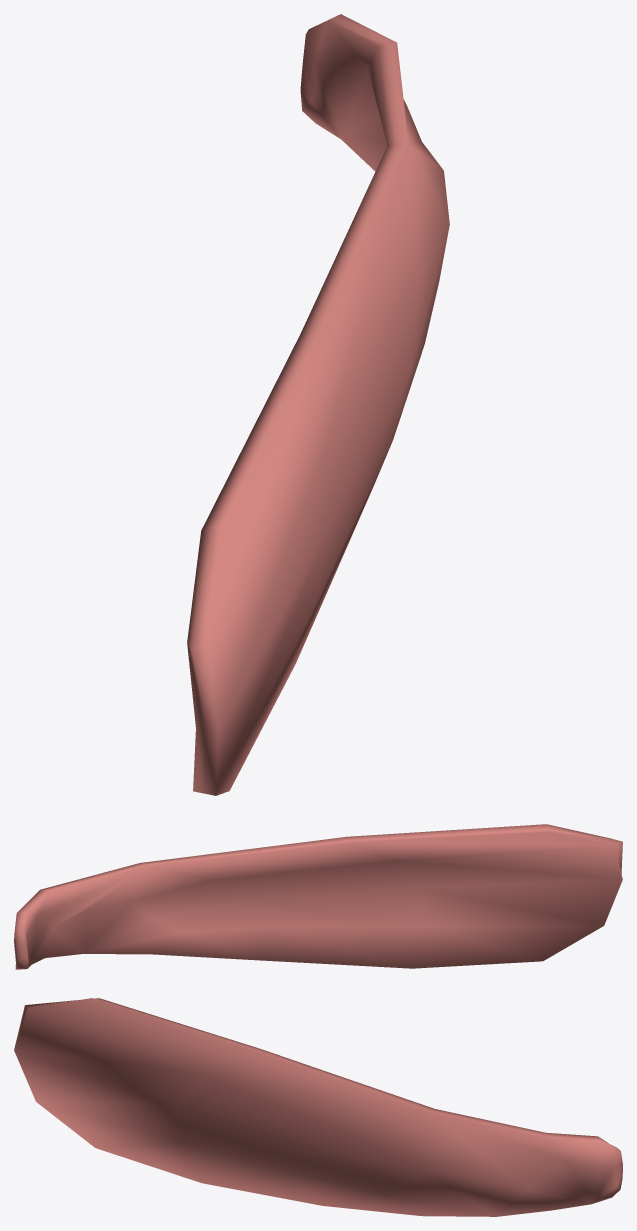
3 renders of one model, top to bottom at view 1: azimuth 30°, elevation 25°; view 2: azimuth 150°, elevation 25°; view 3: azimuth 270°, elevation 25°, orthographic. The views are drawn at different scales.
Visible parts, largest first — view 1: ZA_8d8730af1e36609e; view 2: ZA_8d8730af1e36609e; view 3: ZA_8d8730af1e36609e.
Boxes of the visible parts, x1,y1,x2,y2 form: ZA_8d8730af1e36609e: (187,14,449,795); ZA_8d8730af1e36609e: (14,824,622,969); ZA_8d8730af1e36609e: (14,998,622,1216).
Bounding box in the file's own units: 0.0328 × 0.0137 × 0.0458.
